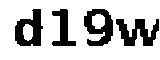1: (49, 7, 81, 52)
9: (83, 8, 115, 50)
d: (9, 5, 44, 52)
w: (116, 15, 160, 51)
